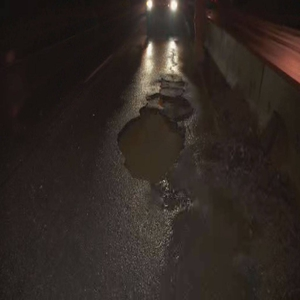pothole: (120, 73, 192, 182)
